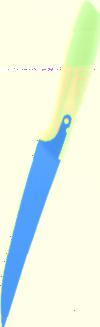Knife: (1, 2, 99, 327)
